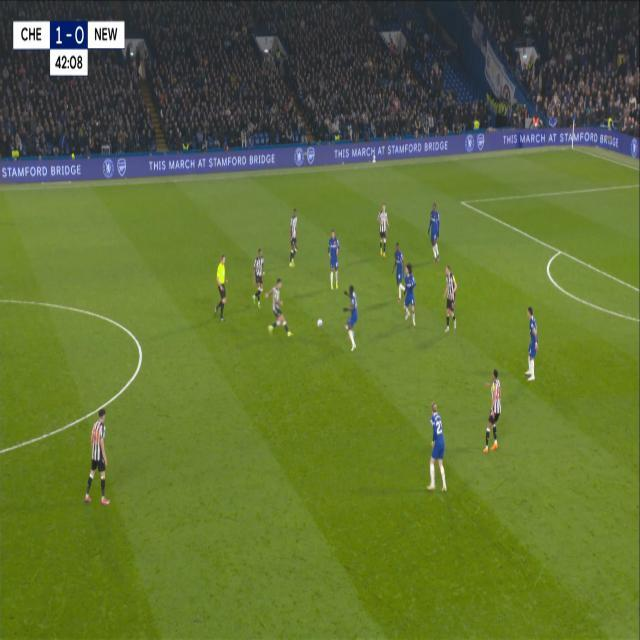Ball: (316, 317, 323, 328)
Chelsea: (424, 396, 450, 496), (522, 301, 542, 385), (341, 280, 362, 354), (402, 259, 419, 334), (426, 198, 442, 268), (326, 226, 342, 294)
Newcastle: (82, 404, 113, 512), (481, 364, 504, 452), (268, 272, 296, 338), (441, 258, 462, 337), (374, 198, 392, 262), (286, 202, 301, 270), (252, 245, 266, 315)
Refree: (212, 249, 231, 325)
